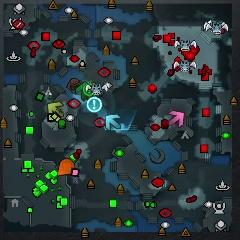Other: (87, 97, 102, 113)
p5: (58, 159, 75, 176)
x1: (168, 110, 185, 127)
x2: (48, 102, 64, 118)
x3: (106, 114, 121, 130)
x4: (76, 82, 92, 101)
